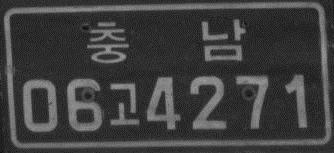0: (20, 77, 59, 135)
1: (284, 71, 310, 132)
2: (189, 74, 228, 132)
4: (143, 74, 181, 132)
6: (66, 76, 104, 133)
7: (233, 73, 272, 132)
고: (108, 81, 142, 128)
충남_D: (85, 15, 248, 66)
